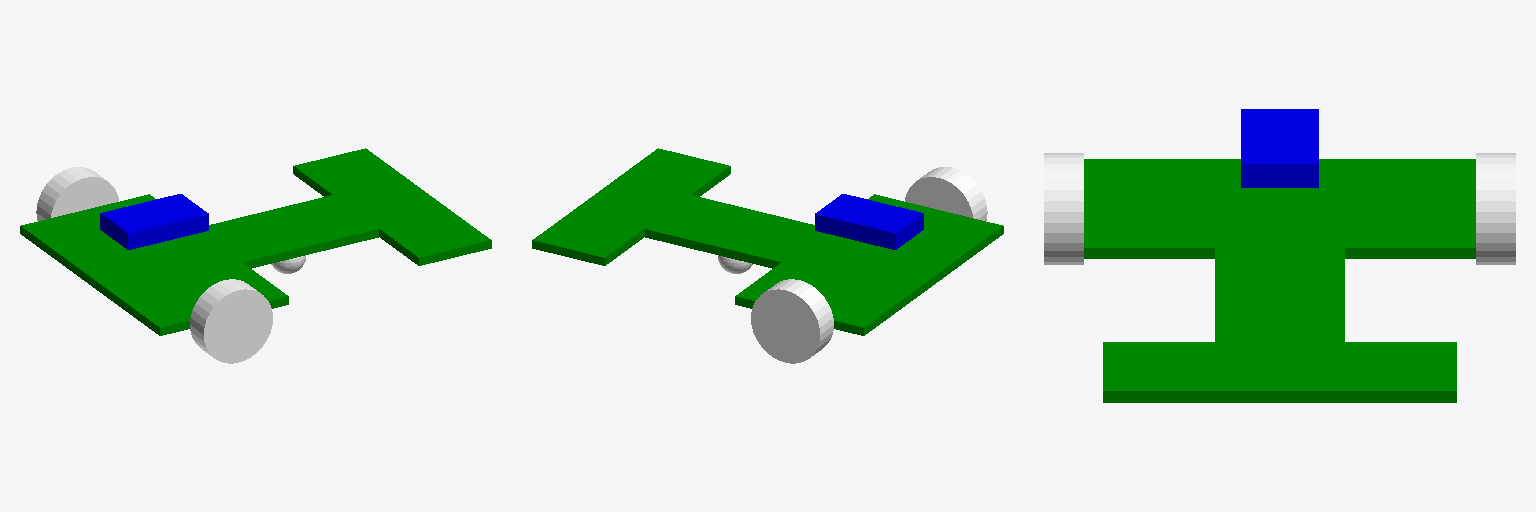
URDF robot description (FLF):
<?xml version="1.0" ?>
<!-- =================================================================================== -->
<!-- |    This document was autogenerated by xacro from [local-path]/line_follower_ws/src/line_follower_robot/urdf/my_robot/robot.urdf.xacro | -->
<!-- |    EDITING THIS FILE BY HAND IS NOT RECOMMENDED                                 | -->
<!-- =================================================================================== -->
<robot name="FLF">
  <material name="grey">
    <color rgba="0.7 0.7 0.7 1"/>
  </material>
  <material name="green">
    <color rgba="0 0.6 0.0 1"/>
  </material>
  <material name="white">
    <color rgba="1 1 1 1"/>
  </material>
  <!-- Base Footprint Link -->
  <link name="base_footprint"/>
  <!-- Base Link -->
  <link name="base_link">
    <visual>
      <geometry>
        <box size="1.44 2.6999999999999997 0.09"/>
      </geometry>
      <origin rpy="0 0 0" xyz="0 0 0"/>
      <material name="green"/>
    </visual>
    <collision>
      <geometry>
        <box size="1.44 2.6999999999999997 0.09"/>
      </geometry>
      <origin rpy="0 0 0" xyz="0 0 0"/>
    </collision>
    <inertial>
      <mass value="2.0"/>
      <origin rpy="0 0 0" xyz="0 0 0"/>
      <inertia ixx="0.01" ixy="0.0" ixz="0.0" iyy="0.01" iyz="0.0" izz="0.01"/>
    </inertial>
  </link>
  <!-- test -->
  <link name="test_link">
    <visual>
      <geometry>
        <box size="0.18 0.54 0.8999999999999999"/>
      </geometry>
      <material name="blue">
        <color rgba="0 0 1 1"/>
      </material>
    </visual>
  </link>
  <!-- test -->
  <!-- Neck Link -->
  <link name="neck_link">
    <visual>
      <geometry>
        <box size="1.53 0.8999999999999999 0.09"/>
      </geometry>
      <origin rpy="0 0 0" xyz="0 0 0"/>
      <material name="green"/>
    </visual>
    <collision>
      <geometry>
        <box size="1.53 0.8999999999999999 0.09"/>
      </geometry>
      <origin rpy="0 0 0" xyz="0 0 0"/>
    </collision>
    <inertial>
      <mass value="2.0"/>
      <origin rpy="0 0 0" xyz="0 0 0"/>
      <inertia ixx="0.01" ixy="0.0" ixz="0.0" iyy="0.01" iyz="0.0" izz="0.01"/>
    </inertial>
  </link>
  <!-- IR Sensor Link -->
  <link name="ir_link">
    <visual>
      <geometry>
        <box size="0.8099999999999999 2.4299999999999997 0.09"/>
      </geometry>
      <origin rpy="0 0 0" xyz="0 0 0"/>
      <material name="green"/>
    </visual>
    <collision>
      <geometry>
        <box size="0.8099999999999999 2.4299999999999997 0.09"/>
      </geometry>
      <origin rpy="0 0 0" xyz="0 0 0"/>
    </collision>
    <inertial>
      <mass value="2.0"/>
      <origin rpy="0 0 0" xyz="0 0 0"/>
      <inertia ixx="0.01" ixy="0.0" ixz="0.0" iyy="0.01" iyz="0.0" izz="0.01"/>
    </inertial>
  </link>
  <!-- IR Sensor 1 -->
  <link name="ir_sensor_1">
    <visual>
      <geometry>
        <box size=" 0.054 0.054 0.18"/>
      </geometry>
      <origin rpy="0 0 0" xyz="0.0 0 0.09"/>
      <material name="white"/>
    </visual>
    <collision>
      <geometry>
        <box size="0.18 0.054 0.054"/>
      </geometry>
      <origin rpy="0 0 0" xyz="0.09 0 0"/>
    </collision>
    <inertial>
      <mass value="0.1"/>
      <origin xyz="0 0 0"/>
      <inertia ixx="0.0001" ixy="0" ixz="0" iyy="0.0001" iyz="0" izz="0.0001"/>
    </inertial>
  </link>
  <link name="ir_sensor_2">
    <visual>
      <geometry>
        <box size="0.054 0.054 0.18"/>
      </geometry>
      <origin rpy="0 0 0" xyz="0.0 0 0.09"/>
      <material name="white"/>
    </visual>
    <collision>
      <geometry>
        <box size="0.18 0.054 0.054"/>
      </geometry>
      <origin rpy="0 0 0" xyz="0 0 0"/>
    </collision>
    <inertial>
      <mass value="0.1"/>
      <origin xyz="0 0 0"/>
      <inertia ixx="0.0001" ixy="0" ixz="0" iyy="0.0001" iyz="0" izz="0.0001"/>
    </inertial>
  </link>
  <link name="ir_sensor_3">
    <visual>
      <geometry>
        <box size="0.054 0.054 0.18"/>
      </geometry>
      <origin rpy="0 0 0" xyz="0.0 0 0.09"/>
      <material name="white"/>
    </visual>
    <collision>
      <geometry>
        <box size="0.18 0.054 0.054"/>
      </geometry>
      <origin rpy="0 0 0" xyz="0 0 0"/>
    </collision>
    <inertial>
      <mass value="0.1"/>
      <origin xyz="0 0 0"/>
      <inertia ixx="0.0001" ixy="0" ixz="0" iyy="0.0001" iyz="0" izz="0.0001"/>
    </inertial>
  </link>
  <link name="ir_sensor_4">
    <visual>
      <geometry>
        <box size="0.054 0.054 0.18"/>
      </geometry>
      <origin rpy="0 0 0" xyz="0.0 0 0.09"/>
      <material name="white"/>
    </visual>
    <collision>
      <geometry>
        <box size="0.18 0.054 0.054"/>
      </geometry>
      <origin rpy="0 0 0" xyz="0 0 0"/>
    </collision>
    <inertial>
      <mass value="0.1"/>
      <origin xyz="0 0 0"/>
      <inertia ixx="0.0001" ixy="0" ixz="0" iyy="0.0001" iyz="0" izz="0.0001"/>
    </inertial>
  </link>
  <link name="ir_sensor_5">
    <visual>
      <geometry>
        <box size="0.054 0.054 0.18"/>
      </geometry>
      <origin rpy="0 0 0" xyz="0.0 0 0.09"/>
      <material name="white"/>
    </visual>
    <collision>
      <geometry>
        <box size="0.18 0.054 0.054"/>
      </geometry>
      <origin rpy="0 0 0" xyz="0 0 0"/>
    </collision>
    <inertial>
      <mass value="0.1"/>
      <origin xyz="0 0 0"/>
      <inertia ixx="0.0001" ixy="0" ixz="0" iyy="0.0001" iyz="0" izz="0.0001"/>
    </inertial>
  </link>
  <!-- Left Wheel -->
  <link name="left_wheel">
    <visual>
      <geometry>
        <cylinder length="0.27" radius="0.38699999999999996"/>
      </geometry>
      <origin rpy="0 0 0" xyz="0 0 0"/>
      <material name="white"/>
    </visual>
    <collision>
      <geometry>
        <cylinder length="0.27" radius="0.38699999999999996"/>
      </geometry>
      <origin rpy="0 0 0" xyz="0 0 0"/>
    </collision>
    <inertial>
      <mass value="0.1"/>
      <origin rpy="0 0 0" xyz="0 0 0"/>
      <inertia ixx="0.00001" ixy="0.0" ixz="0.0" iyy="0.00001" iyz="0.0" izz="0.00002"/>
    </inertial>
  </link>
  <!-- Right Wheel -->
  <link name="right_wheel">
    <visual>
      <geometry>
        <cylinder length="0.27" radius="0.38699999999999996"/>
      </geometry>
      <origin rpy="0 0 0" xyz="0 0 0"/>
      <material name="white"/>
    </visual>
    <collision>
      <geometry>
        <cylinder length="0.27" radius="0.38699999999999996"/>
      </geometry>
      <origin rpy="0 0 0" xyz="0 0 0"/>
    </collision>
    <inertial>
      <mass value="0.1"/>
      <origin rpy="0 0 0" xyz="0 0 0"/>
      <inertia ixx="0.00001" ixy="0.0" ixz="0.0" iyy="0.00001" iyz="0.0" izz="0.00002"/>
    </inertial>
  </link>
  <link name="caster_wheel">
    <visual>
      <geometry>
        <sphere radius="0.18"/>
        <!-- Radius = 1.075, so diameter = 2.15 -->
      </geometry>
      <material name="white"/>
    </visual>
    <collision>
      <geometry>
        <sphere radius="0.18"/>
      </geometry>
      <surface>
        <contact>
          <collide_bitmask>0x02</collide_bitmask>
        </contact>
      </surface>
    </collision>
    <inertial>
      <mass value="0.05"/>
      <origin xyz="0 0 0"/>
      <inertia ixx="0.001" ixy="0" ixz="0" iyy="0.001" iyz="0" izz="0.001"/>
    </inertial>
  </link>
  <!-- Joints -->
  <joint name="base_footprint_joint" type="fixed">
    <parent link="base_footprint"/>
    <child link="base_link"/>
    <origin rpy="0 0 0" xyz="0 0 0.38699999999999996"/>
  </joint>
  <joint name="base_neck_joint" type="fixed">
    <parent link="base_link"/>
    <child link="neck_link"/>
    <origin rpy="0 0 0" xyz="1.4849999999999999 0 0"/>
  </joint>
  <joint name="base_ir_joint" type="fixed">
    <parent link="base_link"/>
    <child link="ir_link"/>
    <origin rpy="0 0 0" xyz="2.655 0 0"/>
  </joint>
  <joint name="base_left_wheel_joint" type="continuous">
    <parent link="base_link"/>
    <child link="left_wheel"/>
    <origin rpy="-1.5707963267948966 0 0" xyz="0 1.4849999999999999 0"/>
    <axis xyz="0 0 1"/>
    <dynamics damping="0.5" friction="0.5"/>
  </joint>
  <joint name="base_right_wheel_joint" type="continuous">
    <parent link="base_link"/>
    <child link="right_wheel"/>
    <origin rpy="-1.5707963267948966 0 0" xyz="0 -1.4849999999999999 0"/>
    <axis xyz="0 0 1"/>
    <dynamics damping="0.5" friction="0.5"/>
  </joint>
  <!-- Joint to Attach Caster to Neck -->
  <joint name="caster_joint" type="fixed">
    <parent link="neck_link"/>
    <child link="caster_wheel"/>
    <origin rpy="0 0 0" xyz="0 0 -0.243"/>
    <!-- Places caster exactly on the ground -->
  </joint>
  <joint name="ir_sensor_1_joint" type="fixed">
    <parent link="ir_link"/>
    <child link="ir_sensor_1"/>
    <origin rpy="0 1.57 0" xyz="0.0 0 -0.072"/>
  </joint>
  <joint name="ir_sensor_2_joint" type="fixed">
    <parent link="ir_link"/>
    <child link="ir_sensor_2"/>
    <origin rpy="0 1.57 0" xyz="0.0 0.486 -0.072"/>
  </joint>
  <joint name="ir_sensor_3_joint" type="fixed">
    <parent link="ir_link"/>
    <child link="ir_sensor_3"/>
    <origin rpy="0 1.57 0" xyz="0.0 0.972 -0.072"/>
  </joint>
  <joint name="ir_sensor_4_joint" type="fixed">
    <parent link="ir_link"/>
    <child link="ir_sensor_4"/>
    <origin rpy="0 1.57 0" xyz="0.0 -0.486 -0.072"/>
  </joint>
  <joint name="ir_sensor_5_joint" type="fixed">
    <parent link="ir_link"/>
    <child link="ir_sensor_5"/>
    <origin rpy="0 1.57 0" xyz="0.0 -0.972 -0.072"/>
  </joint>
  <!--test joiont -->
  <joint name="test_joint" type="fixed">
    <parent link="base_link"/>
    <child link="test_link"/>
    <origin rpy="0 1.57 0" xyz="0 0 0.46259999999999996"/>
  </joint>
  <!--test joiont -->
  <!-- Gazebo specific elements -->
  <gazebo reference="left_wheel">
    <material>Gazebo/Blue</material>
    <mu1>1.0</mu1>
    <mu2>1.0</mu2>
    <kp>1000.0</kp>
    <kd>100.0</kd>
    <fdir1>1 0 0</fdir1>
  </gazebo>
  <gazebo reference="right_wheel">
    <material>Gazebo/Blue</material>
    <mu1>1.0</mu1>
    <mu2>1.0</mu2>
    <kp>1000.0</kp>
    <kd>100.0</kd>
    <fdir1>1 0 0</fdir1>
  </gazebo>
  <gazebo reference="caster_wheel">
    <material>Gazebo/Blue</material>
    <mu1>0.000005</mu1>
    <mu2>0.000005</mu2>
  </gazebo>
  <!-- IR sensor plugins -->
  <!--test pugin-->
  <gazebo reference="test_link">
    <sensor name="test_sensor" type="ray">
      <update_rate>30</update_rate>
      <visualize>true</visualize>
      <ray>
        <scan>
          <horizontal>
            <samples>10</samples>
            <resolution>1</resolution>
            <min_angle>-0.1</min_angle>
            <max_angle>0.1</max_angle>
          </horizontal>
        </scan>
        <range>
          <min>0.01</min>
          <max>1.0</max>
          <resolution>0.01</resolution>
        </range>
      </ray>
      <plugin filename="libgazebo_ros_ray_sensor.so" name="sensor_plugin">
        <ros>
          <namespace>/</namespace>
          <remapping>~/out:=/test_sensor</remapping>
        </ros>
        <output_type>sensor_msgs/LaserScan</output_type>
        <frame_name>sensor_link</frame_name>
      </plugin>
    </sensor>
  </gazebo>
  <!--test pugin-->
  <gazebo reference="ir_sensor_1">
    <sensor name="ir_sensor_1" type="ray">
      <update_rate>30</update_rate>
      <visualize>true</visualize>
      <ray>
        <scan>
          <horizontal>
            <samples>10</samples>
            <resolution>1</resolution>
            <min_angle>-0.1</min_angle>
            <max_angle>0.1</max_angle>
          </horizontal>
        </scan>
        <range>
          <min>0.3</min>
          <max>2</max>
          <resolution>0.01</resolution>
        </range>
      </ray>
      <plugin filename="libgazebo_ros_ray_sensor.so" name="ir_sensor_1_plugin">
        <ros>
          <namespace>/</namespace>
          <remapping>~/out:=/ir_sensor_1</remapping>
        </ros>
        <output_type>sensor_msgs/LaserScan</output_type>
        <frame_name>ir_sensor_1</frame_name>
      </plugin>
    </sensor>
  </gazebo>
  <gazebo reference="ir_sensor_2">
    <sensor name="ir_sensor_2" type="ray">
      <update_rate>30</update_rate>
      <visualize>true</visualize>
      <ray>
        <scan>
          <horizontal>
            <samples>10</samples>
            <resolution>1</resolution>
            <min_angle>-0.1</min_angle>
            <max_angle>0.1</max_angle>
          </horizontal>
        </scan>
        <range>
          <min>0.3</min>
          <max>2</max>
          <resolution>0.01</resolution>
        </range>
      </ray>
      <plugin filename="libgazebo_ros_ray_sensor.so" name="ir_sensor_2_plugin">
        <ros>
          <namespace>/</namespace>
          <remapping>~/out:=/ir_sensor_2</remapping>
        </ros>
        <output_type>sensor_msgs/LaserScan</output_type>
        <frame_name>ir_sensor_2</frame_name>
      </plugin>
    </sensor>
  </gazebo>
  <gazebo reference="ir_sensor_3">
    <sensor name="ir_sensor_3" type="ray">
      <update_rate>30</update_rate>
      <visualize>true</visualize>
      <ray>
        <scan>
          <horizontal>
            <samples>10</samples>
            <resolution>1</resolution>
            <min_angle>-0.1</min_angle>
            <max_angle>0.1</max_angle>
          </horizontal>
        </scan>
        <range>
          <min>0.3</min>
          <max>2</max>
          <resolution>0.01</resolution>
        </range>
      </ray>
      <plugin filename="libgazebo_ros_ray_sensor.so" name="ir_sensor_3_plugin">
        <ros>
          <namespace>/</namespace>
          <remapping>~/out:=/ir_sensor_3</remapping>
        </ros>
        <output_type>sensor_msgs/LaserScan</output_type>
        <frame_name>ir_sensor_3</frame_name>
      </plugin>
    </sensor>
  </gazebo>
  <gazebo reference="ir_sensor_4">
    <sensor name="ir_sensor_4" type="ray">
      <update_rate>30</update_rate>
      <visualize>true</visualize>
      <ray>
        <scan>
          <horizontal>
            <samples>10</samples>
            <resolution>1</resolution>
            <min_angle>-0.1</min_angle>
            <max_angle>0.1</max_angle>
          </horizontal>
        </scan>
        <range>
          <min>0.3</min>
          <max>2</max>
          <resolution>0.01</resolution>
        </range>
      </ray>
      <plugin filename="libgazebo_ros_ray_sensor.so" name="ir_sensor_4_plugin">
        <ros>
          <namespace>/</namespace>
          <remapping>~/out:=/ir_sensor_4</remapping>
        </ros>
        <output_type>sensor_msgs/LaserScan</output_type>
        <frame_name>ir_sensor_4</frame_name>
      </plugin>
    </sensor>
  </gazebo>
  <gazebo reference="ir_sensor_5">
    <sensor name="ir_sensor_5" type="ray">
      <update_rate>30</update_rate>
      <visualize>true</visualize>
      <ray>
        <scan>
          <horizontal>
            <samples>10</samples>
            <resolution>1</resolution>
            <min_angle>-0.1</min_angle>
            <max_angle>0.1</max_angle>
          </horizontal>
        </scan>
        <range>
          <min>0.3</min>
          <max>2</max>
          <resolution>0.01</resolution>
        </range>
      </ray>
      <plugin filename="libgazebo_ros_ray_sensor.so" name="ir_sensor_5_plugin">
        <ros>
          <namespace>/</namespace>
          <remapping>~/out:=/ir_sensor_5</remapping>
        </ros>
        <output_type>sensor_msgs/LaserScan</output_type>
        <frame_name>ir_sensor_5</frame_name>
      </plugin>
    </sensor>
  </gazebo>
  <gazebo>
    <plugin filename="libgazebo_ros_diff_drive.so" name="differential_drive_controller">
      <update_rate>30</update_rate>
      <left_joint>base_left_wheel_joint</left_joint>
      <right_joint>base_right_wheel_joint</right_joint>
      <wheel_separation>2.9699999999999998</wheel_separation>
      <wheel_diameter>0.7739999999999999</wheel_diameter>
      <max_wheel_acceleration>1.0</max_wheel_acceleration>
      <max_wheel_torque>20</max_wheel_torque>
      <command_topic>cmd_vel</command_topic>
      <publish_odom>true</publish_odom>
      <publish_odom_tf>true</publish_odom_tf>
      <odometry_topic>odom</odometry_topic>
      <odometry_frame>odom</odometry_frame>
      <robot_base_frame>base_link</robot_base_frame>
    </plugin>
  </gazebo>
</robot>

--- Render facts (derived) ---
Views: 3 orthographic renders of the robot side by side, from view 1: azimuth 30°, elevation 25°; view 2: azimuth 150°, elevation 25°; view 3: azimuth 270°, elevation 25°.
Robot: FLF — 13 links, 12 joints (2 continuous, 10 fixed); root link base_footprint; default pose: every joint at zero.
Visible links, largest first — view 1: base_link, ir_link, neck_link, right_wheel, test_link, left_wheel; view 2: base_link, ir_link, neck_link, left_wheel, test_link, right_wheel; view 3: base_link, ir_link, neck_link, test_link, left_wheel, right_wheel.
Link boxes in pixels (bbox=[...]): base_link: bbox=[20, 194, 288, 335]; ir_link: bbox=[293, 148, 491, 265]; neck_link: bbox=[202, 195, 378, 268]; right_wheel: bbox=[190, 279, 272, 363]; test_link: bbox=[100, 194, 208, 249]; left_wheel: bbox=[36, 167, 118, 220]; base_link: bbox=[735, 194, 1003, 335]; ir_link: bbox=[532, 148, 730, 265]; neck_link: bbox=[645, 195, 821, 268]; left_wheel: bbox=[751, 279, 833, 363]; test_link: bbox=[815, 194, 923, 249]; right_wheel: bbox=[905, 167, 987, 220]; base_link: bbox=[1084, 159, 1475, 258]; ir_link: bbox=[1103, 342, 1456, 402]; neck_link: bbox=[1215, 248, 1344, 341]; test_link: bbox=[1241, 109, 1318, 187]; left_wheel: bbox=[1476, 153, 1515, 264]; right_wheel: bbox=[1044, 153, 1083, 264].
Bounding box of the posed robot: 3.78 × 3.24 × 0.976 m (x, y, z).
Geometry: primitives only (box / cylinder / sphere), no mesh files.
